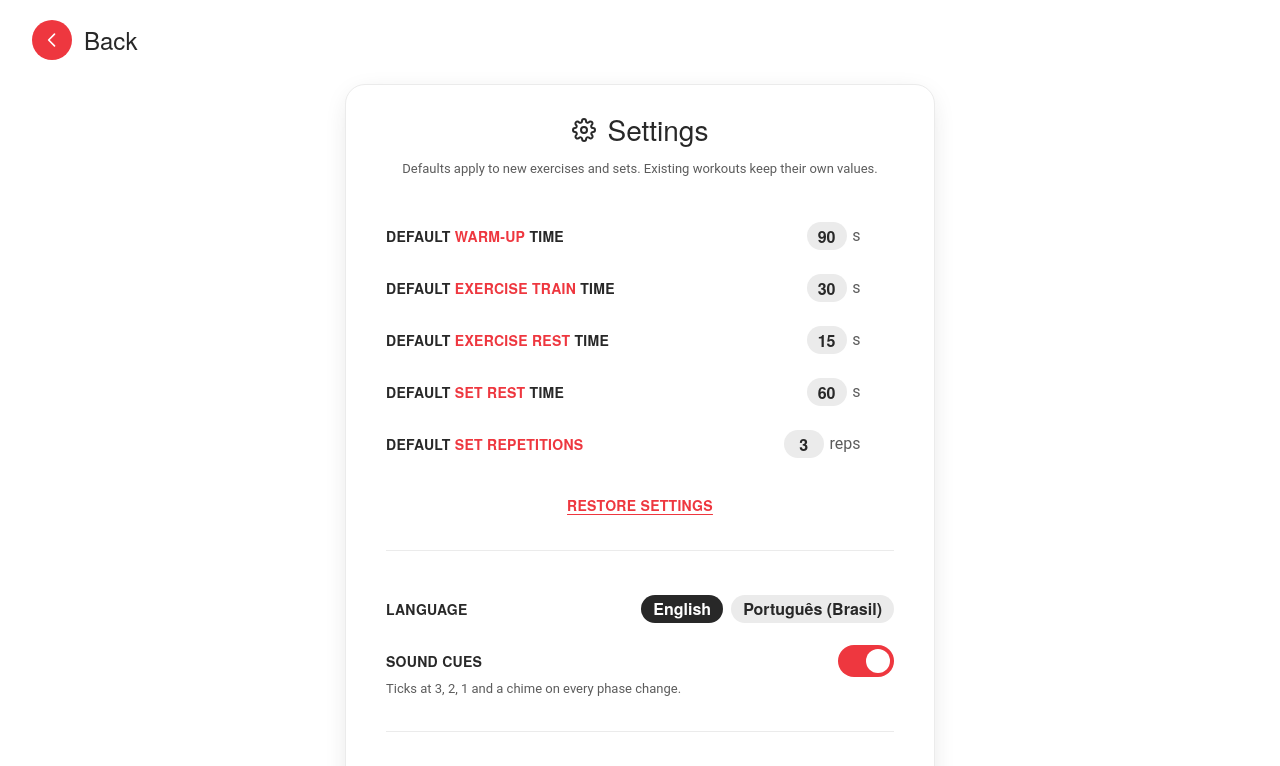
Scenario: Settings › keeps default edits in a draft until Save changes, clamped to the bound
The image size is (1280, 766).
Replace the text in the number field named "Warm-up" with "5000" at (826, 236), box 806,222 -> 846,250
(page scrolled)
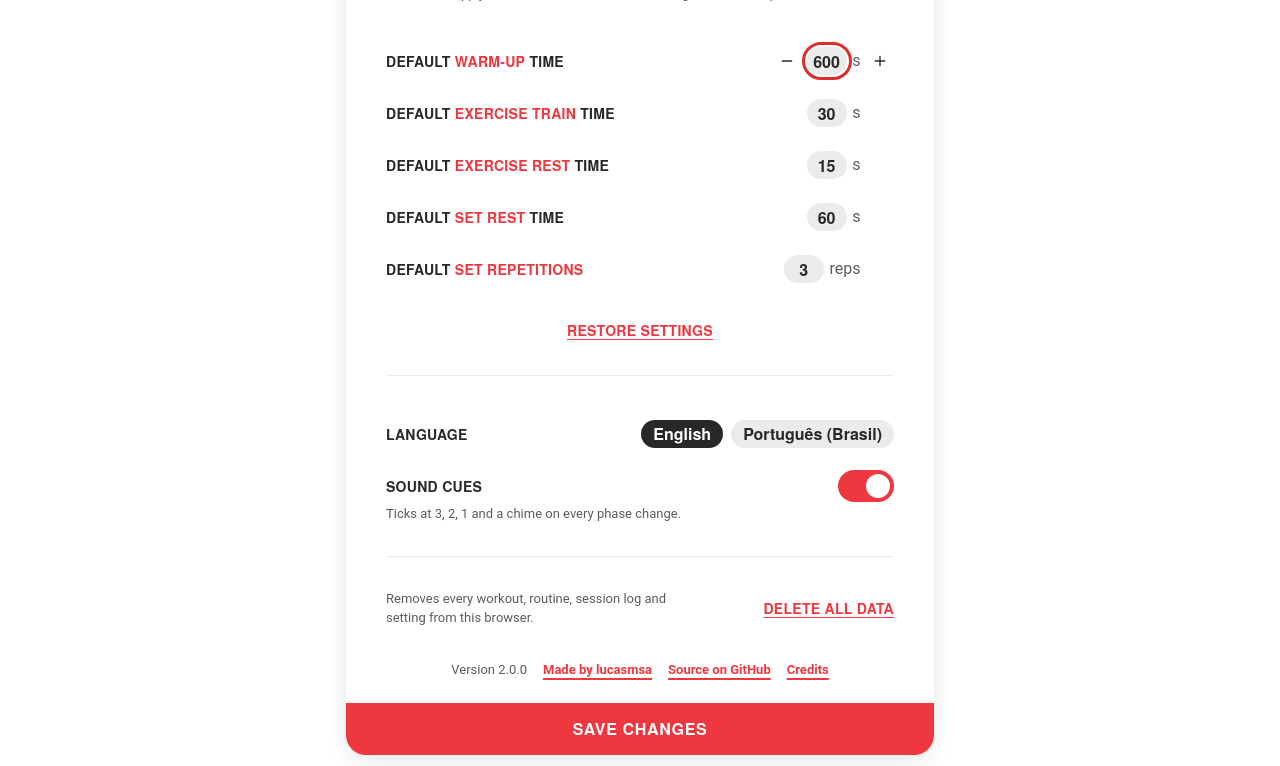
Expected: the button "Save changes" is enabled
Click the button "Save changes".
click(640, 729)  # box 346,703 -> 934,755
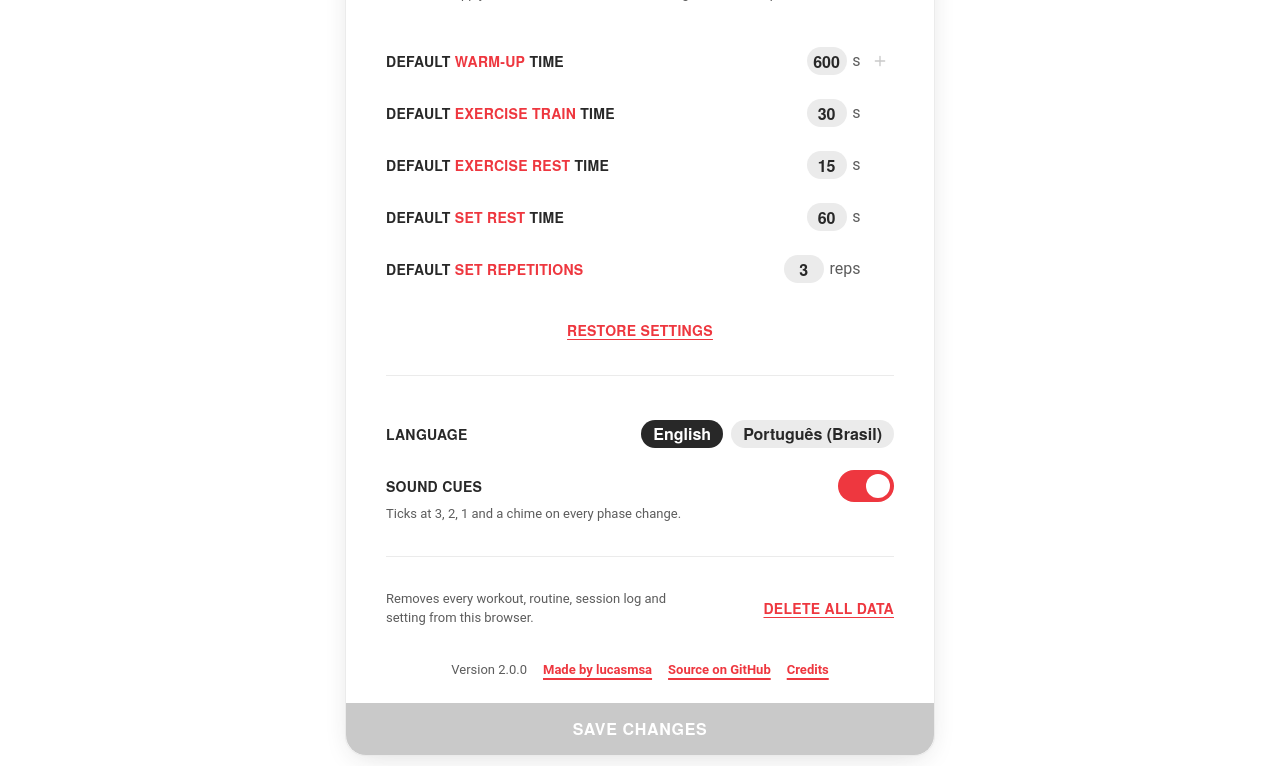
Expected: the button "Save changes" is disabled, 346,703 -> 934,755
